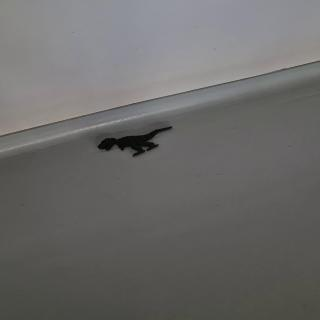dino: (97, 126, 173, 157)
